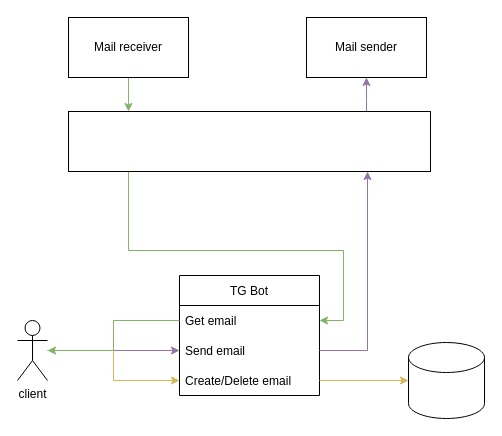
The diagram is 502 pixels wide and 436 high, and some of its shapes have lost their labels. The shapes that lost their labels are listed below. From the top down, each one's box as (x1, y1, x2, y2) in pixels, then its label:
(68, 110, 430, 172): RMQ
(408, 342, 484, 418): DB
